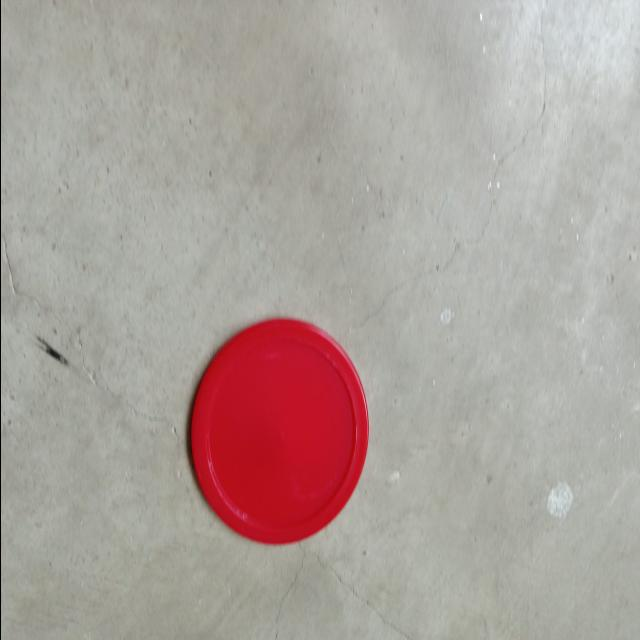chip: (189, 313, 369, 547)
